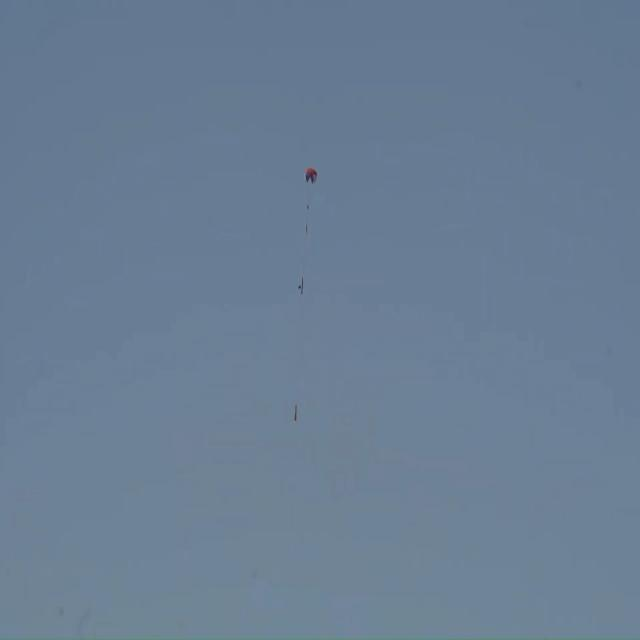Rocket: (294, 405, 297, 421)
